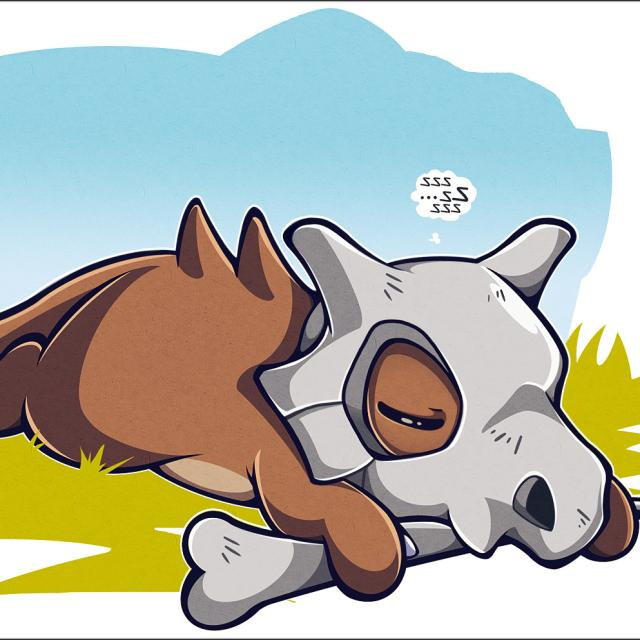Cubone: (3, 208, 594, 580)
